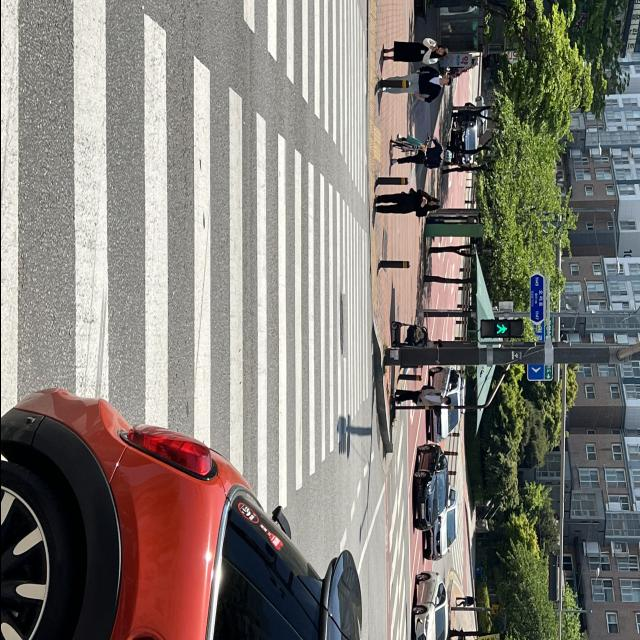green_light: (478, 316, 520, 348)
zebra: (0, 0, 385, 640)
